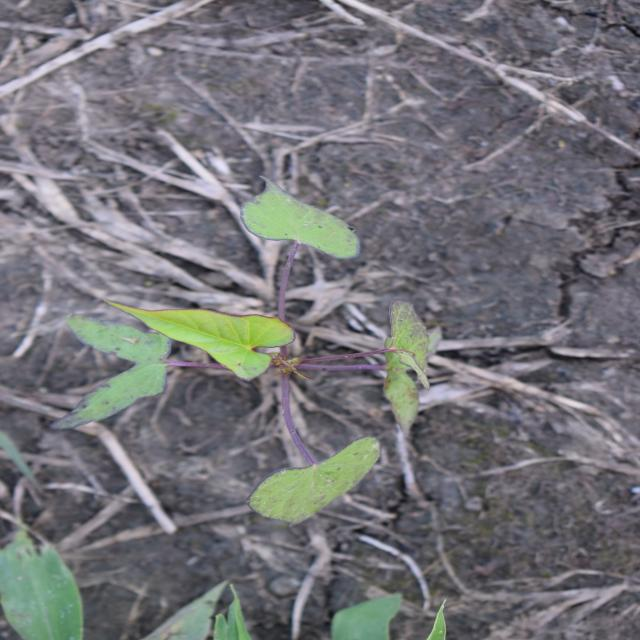MorningGlory: (44, 173, 433, 530)
